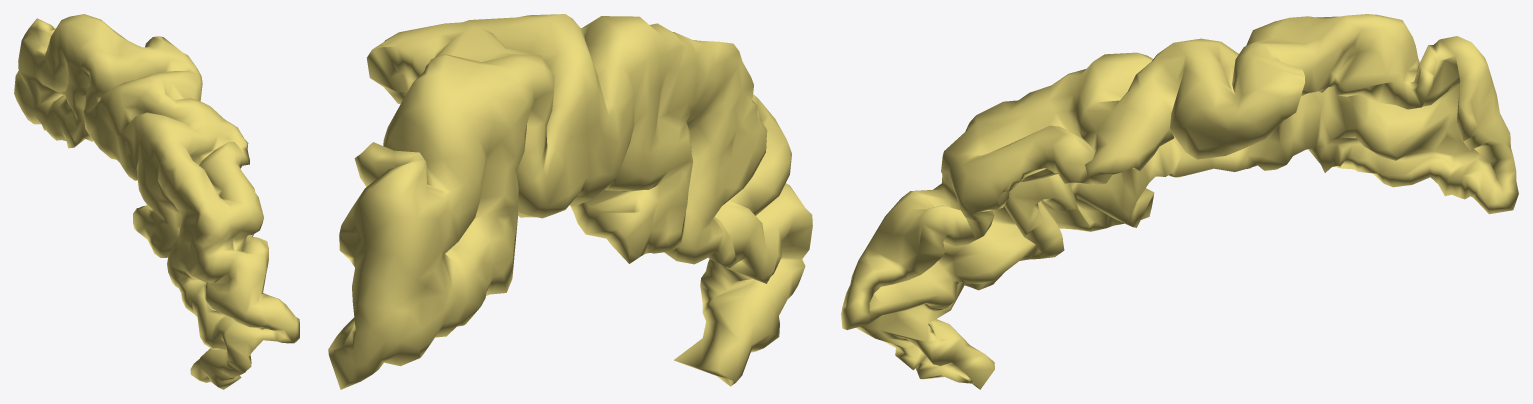
The model's file is superior-frontal-gyrus-l.glb.
The picture shows the model from 3 angles, left to right: view 1: azimuth 30°, elevation 25°; view 2: azimuth 150°, elevation 25°; view 3: azimuth 270°, elevation 25°; orthographic projection. The views are drawn at different scales.
Parts seen in each view (by area): view 1: Superior frontal gyrus.l; view 2: Superior frontal gyrus.l; view 3: Superior frontal gyrus.l.
Boxes of the visible parts, bbox=[...] form: Superior frontal gyrus.l: bbox=[14, 14, 299, 389]; Superior frontal gyrus.l: bbox=[328, 14, 812, 389]; Superior frontal gyrus.l: bbox=[841, 14, 1518, 389].
Size of the model in its own units: 0.0281 by 0.0711 by 0.1146.
